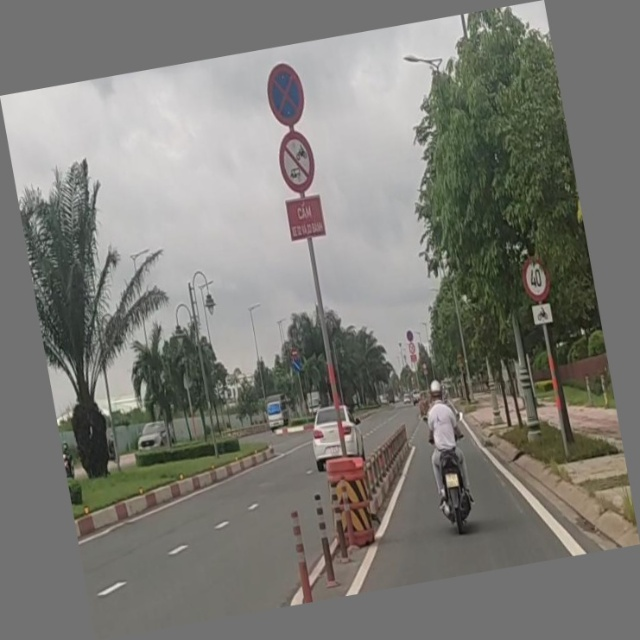P.111: (272, 129, 322, 200)
P.127*40: (520, 256, 553, 304)
P.130: (261, 58, 310, 133)
S.505a*Xe may: (529, 301, 557, 329)
